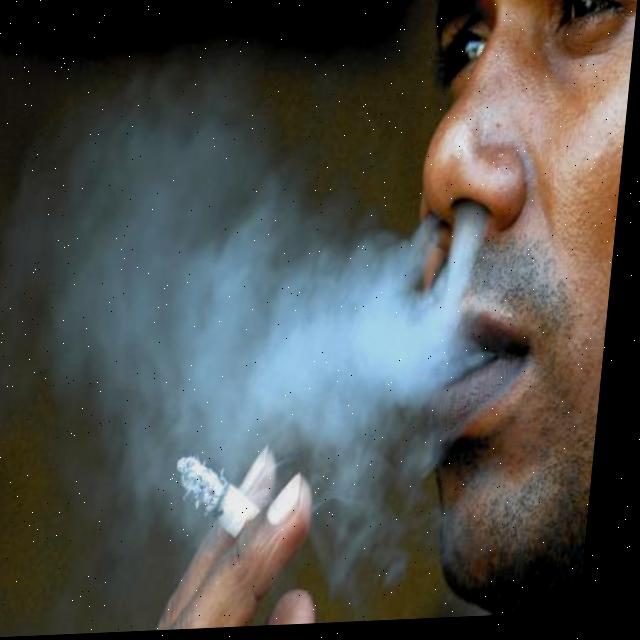cigarette: (179, 449, 272, 544)
